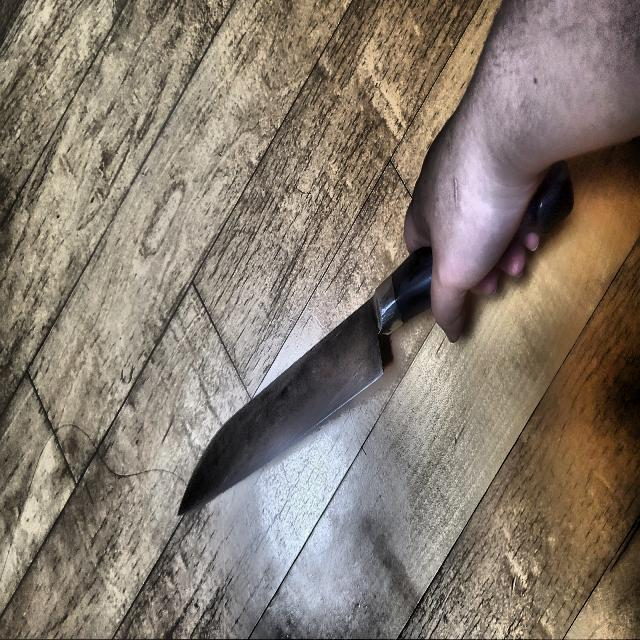knife: (176, 164, 576, 517)
